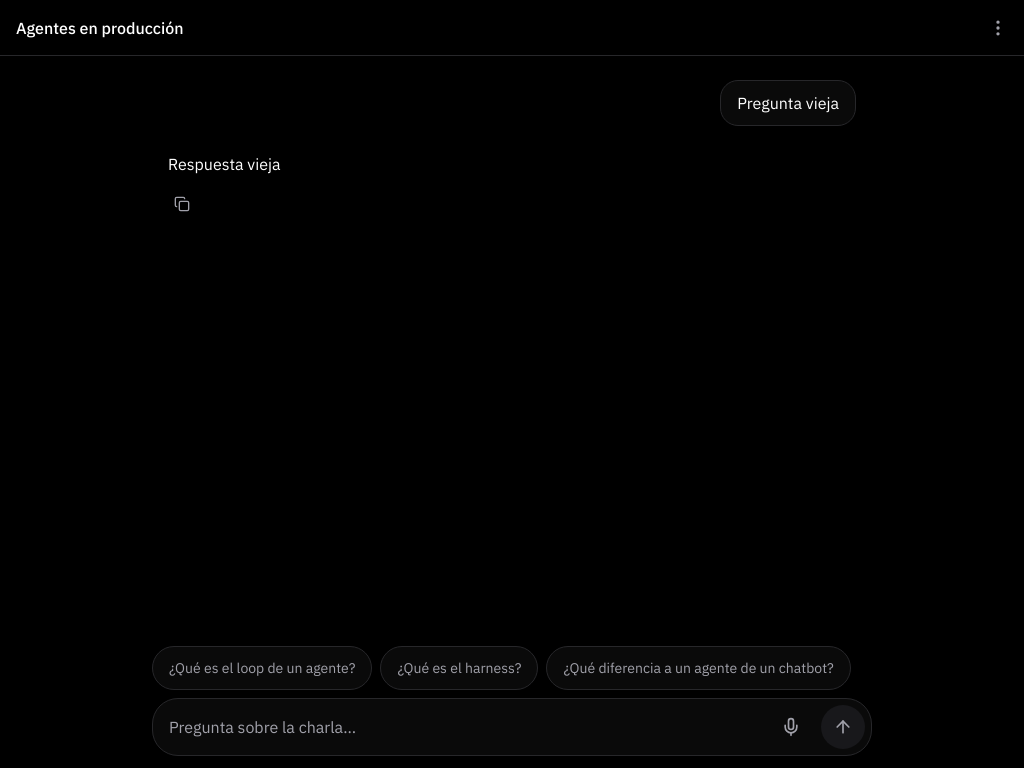
Test case: Chat: cabecera › «Nueva conversación» crea un hilo nuevo y vuelve al estado vacío
Expected: the text box with placeholder "Pregunta sobre la charla…" is enabled, [169,707,761,747]
Expected: the text "Respuesta vieja" is shown, [168,154,280,174]
Click the button named "Menú".
click(998, 28)  # box [976,6,1020,50]
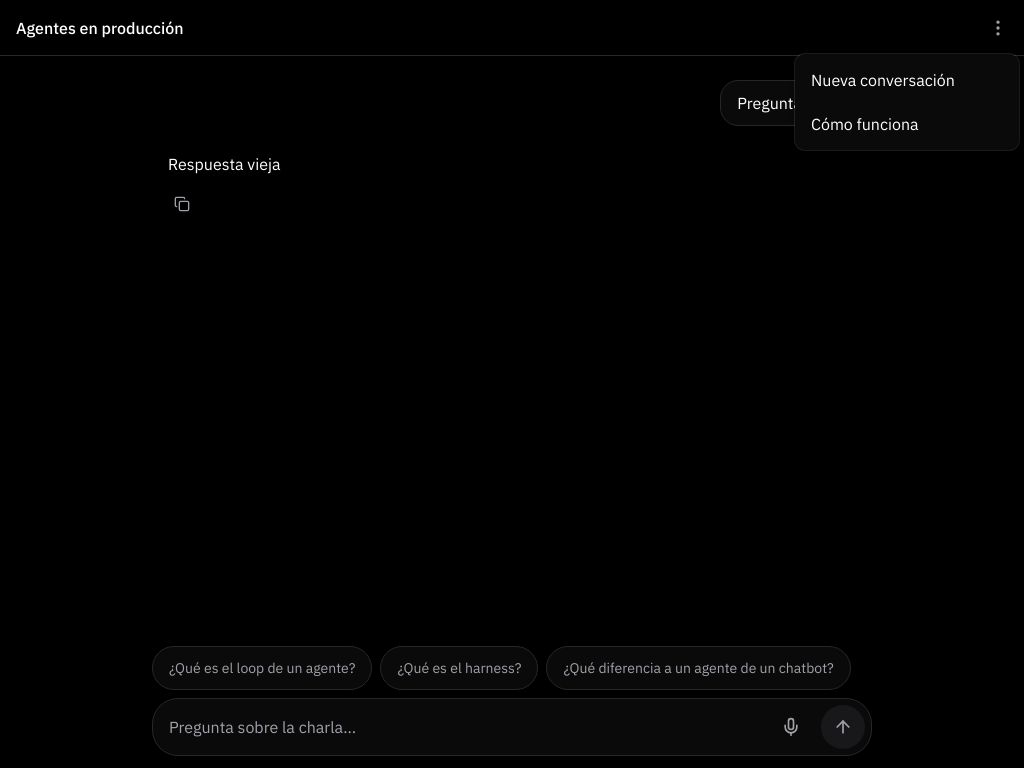
Click the menu item "Nueva conversación".
click(883, 80)  # box [811,70,955,90]
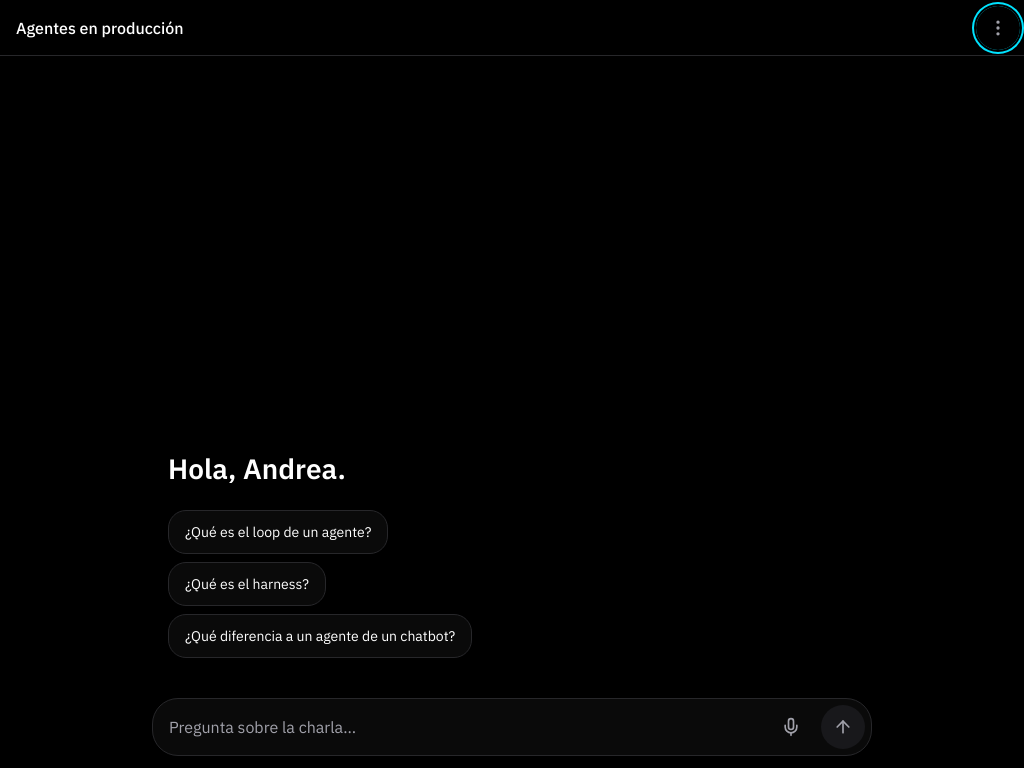
Result: the heading "Hola, Andrea." is shown at [168,450,346,487]
Result: the text "Respuesta vieja" is gone
